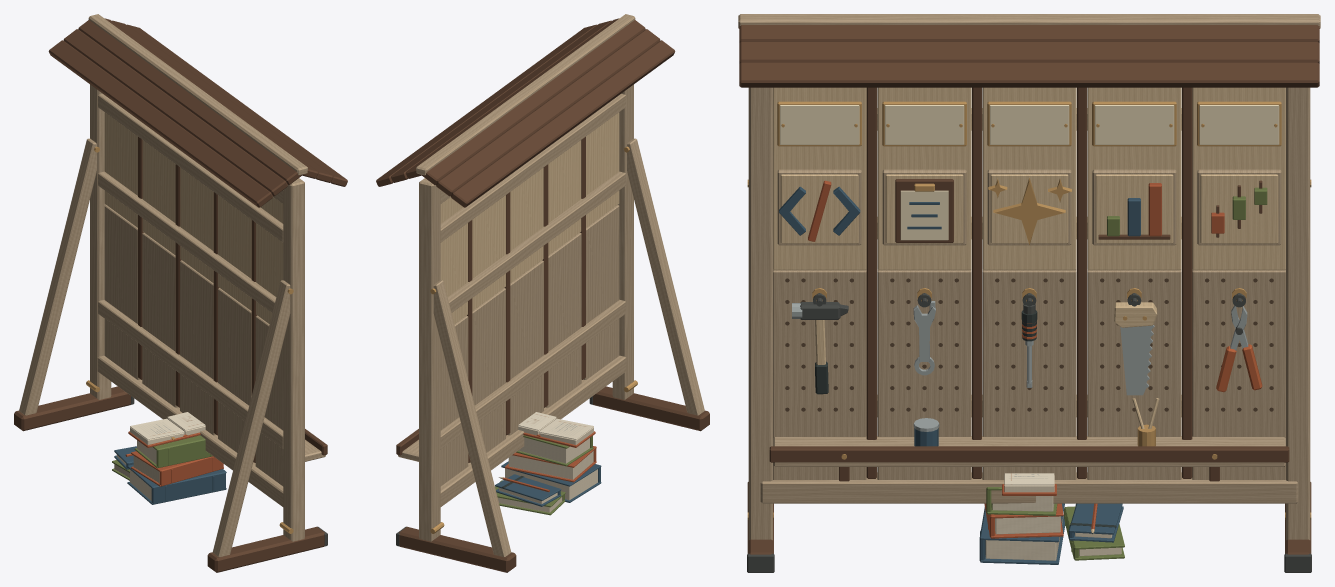
The model's file is camp-workshop.glb.
3 views of the same model, side by side, from view 1: azimuth 30°, elevation 25°; view 2: azimuth 150°, elevation 25°; view 3: azimuth 270°, elevation 25° (orthographic). The views are drawn at different scales.
Parts seen in each view (by area): view 1: C11_body | oiled oak longitudinal, C11_body | opaque surface palette, C11_body | warm ash longitudinal, C08 | colored bookcloth palette, C08 | layered paper edges, C08 | journal study notes; view 2: C11_body | oiled oak longitudinal, C11_body | opaque surface palette, C11_body | warm ash longitudinal, C08 | layered paper edges, C08 | colored bookcloth palette, C08 | journal study notes; view 3: C11_body | oiled oak longitudinal, C11_body | opaque surface palette, C11_body | warm ash longitudinal, C11_body | small fittings palette, C11_tools | opaque surface palette, C08 | colored bookcloth palette, C11_body | colored bookcloth palette, C08 | layered paper edges, C11_tools | warm ash longitudinal.
Part boxes in pixels (x1,y1,x2,y2): C11_body | oiled oak longitudinal: [19, 14, 325, 557]; C11_body | opaque surface palette: [14, 18, 347, 572]; C11_body | warm ash longitudinal: [104, 112, 283, 323]; C08 | colored bookcloth palette: [112, 431, 226, 504]; C08 | layered paper edges: [114, 418, 205, 500]; C08 | journal study notes: [130, 418, 184, 439]; C11_body | oiled oak longitudinal: [398, 14, 704, 557]; C11_body | opaque surface palette: [376, 18, 709, 572]; C11_body | warm ash longitudinal: [440, 112, 619, 323]; C08 | layered paper edges: [498, 418, 597, 512]; C08 | colored bookcloth palette: [495, 431, 601, 515]; C08 | journal study notes: [539, 418, 593, 439]; C11_body | oiled oak longitudinal: [738, 14, 1320, 540]; C11_body | opaque surface palette: [739, 25, 1319, 572]; C11_body | warm ash longitudinal: [773, 87, 1285, 428]; C11_body | small fittings palette: [747, 101, 1311, 519]; C11_tools | opaque surface palette: [792, 294, 1262, 395]; C08 | colored bookcloth palette: [979, 484, 1124, 564]; C11_body | colored bookcloth palette: [779, 180, 1267, 446]; C08 | layered paper edges: [985, 475, 1121, 560]; C11_tools | warm ash longitudinal: [815, 302, 1157, 364].
Bounding box in the file's own units: 0.7352 × 2.1 × 2.06.
10 materials, 5 textured.
